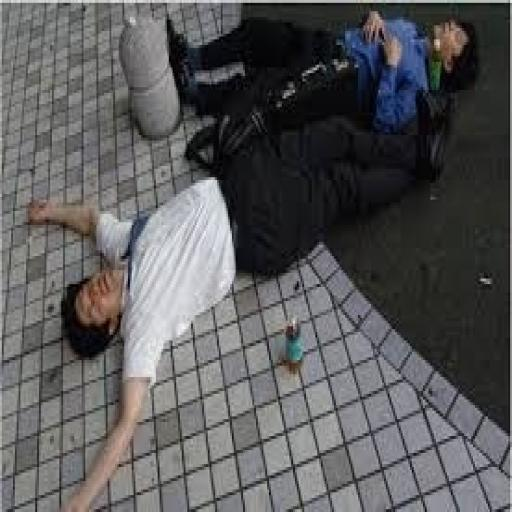sleeping: (26, 172, 239, 509)
